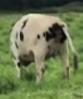cow: (11, 13, 79, 84)
